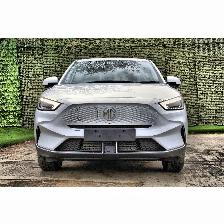EV: (36, 58, 191, 175)
